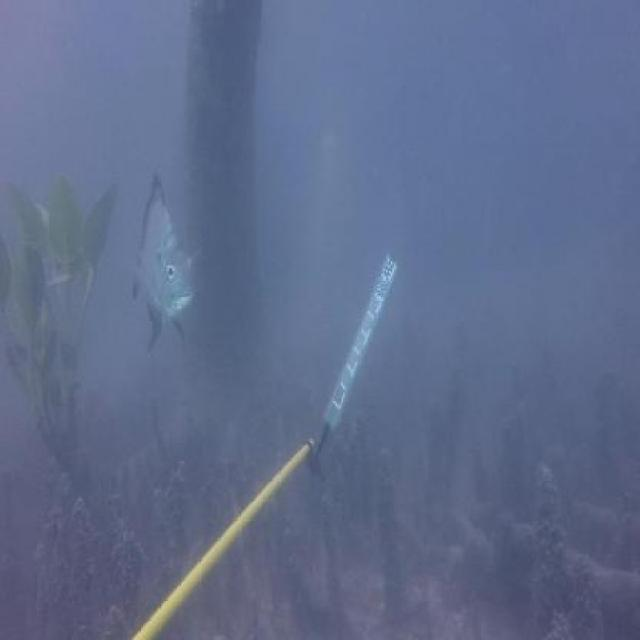acanthopagrus_palmaris: (130, 160, 198, 362)
